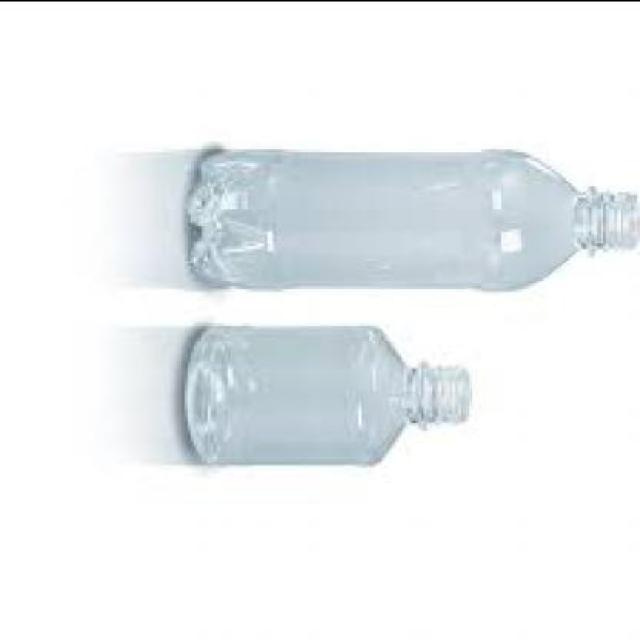PLASTIC: (185, 149, 639, 289), (184, 326, 471, 463)
